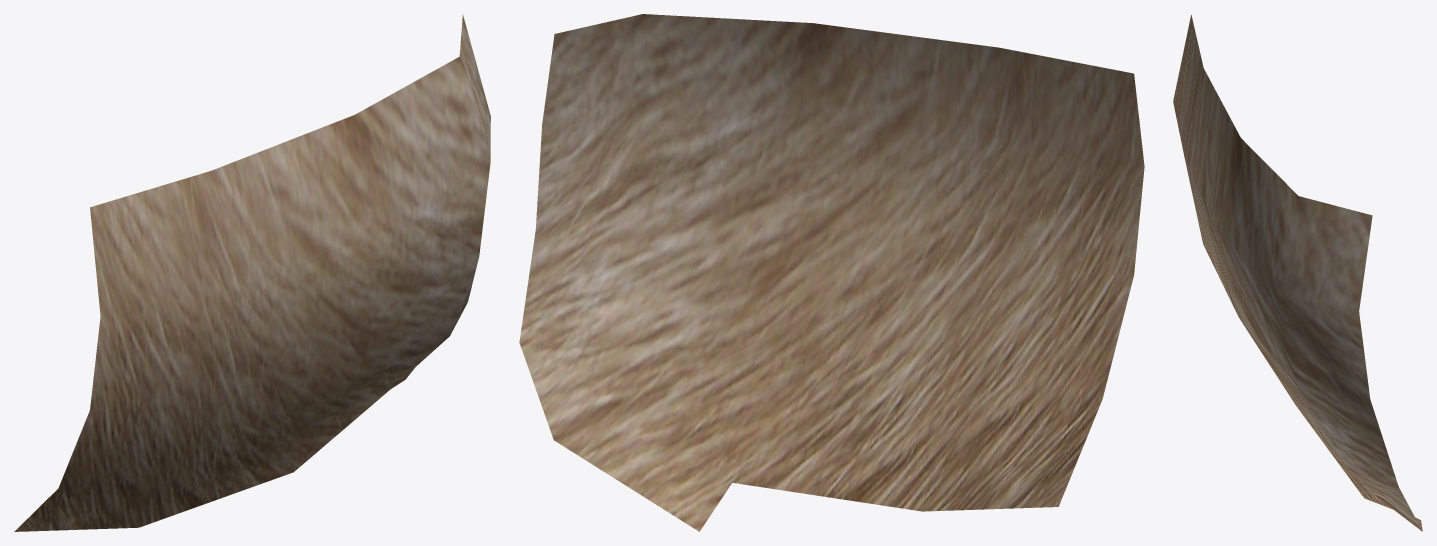
File: 05bunny26verts.DAE
3 views of the same model, side by side, from view 1: azimuth 30°, elevation 25°; view 2: azimuth 150°, elevation 25°; view 3: azimuth 270°, elevation 25° (orthographic). The views are drawn at different scales.
Visible parts, largest first — view 1: Bunny26verts; view 2: Bunny26verts; view 3: Bunny26verts.
Part boxes in pixels (x1,y1,x2,y2): Bunny26verts: (14, 14, 490, 531); Bunny26verts: (519, 14, 1144, 531); Bunny26verts: (1173, 14, 1422, 531).
Bounding box in the file's own units: 54.83 × 27.56 × 46.05.
1 material, 1 textured.
